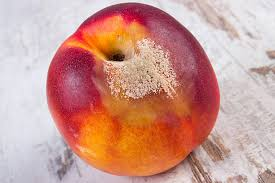damaged_apple: (42, 5, 223, 174)
